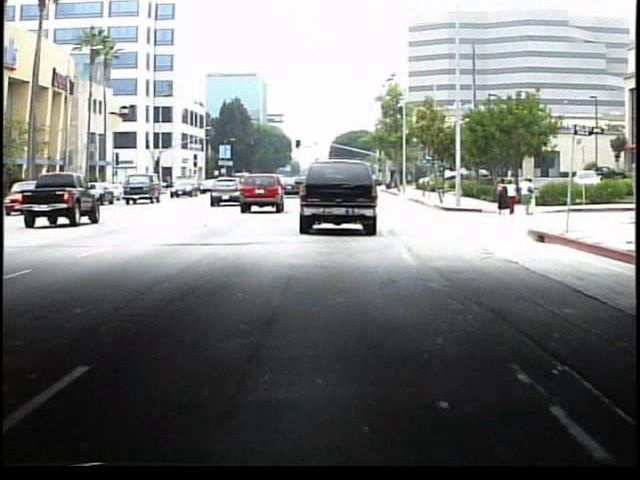person: (520, 177, 535, 219), (493, 178, 507, 215), (505, 179, 518, 217)
